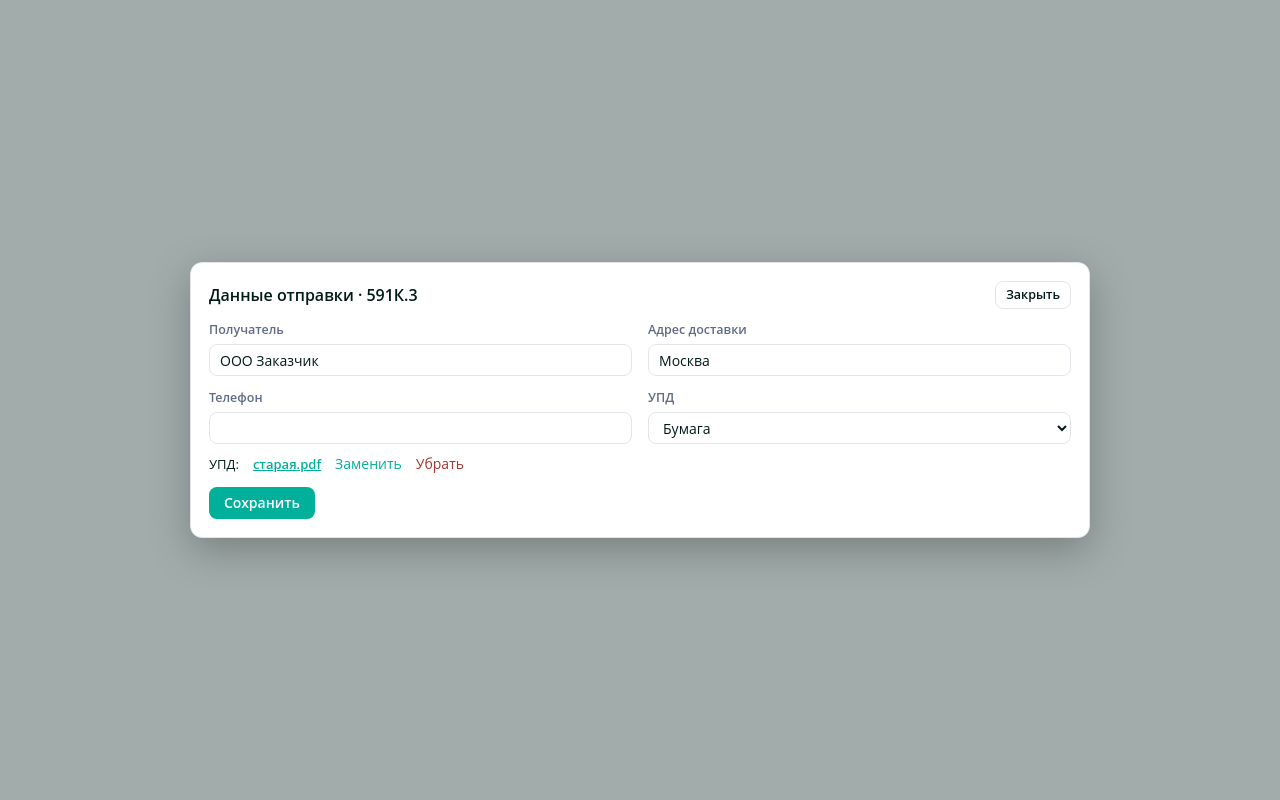
Scenario: Данные отправки › «Убрать» стирает ссылку на файл с текущей версией
This screenshot has width=1280, height=800.
Check: the field labelled "Получатель" holds "ООО Заказчик", box [209,344,632,376]
Check: the link "старая.pdf" is shown, box [253,454,321,472]
Click the button "Убрать".
click(440, 464)  # box [416,454,464,473]
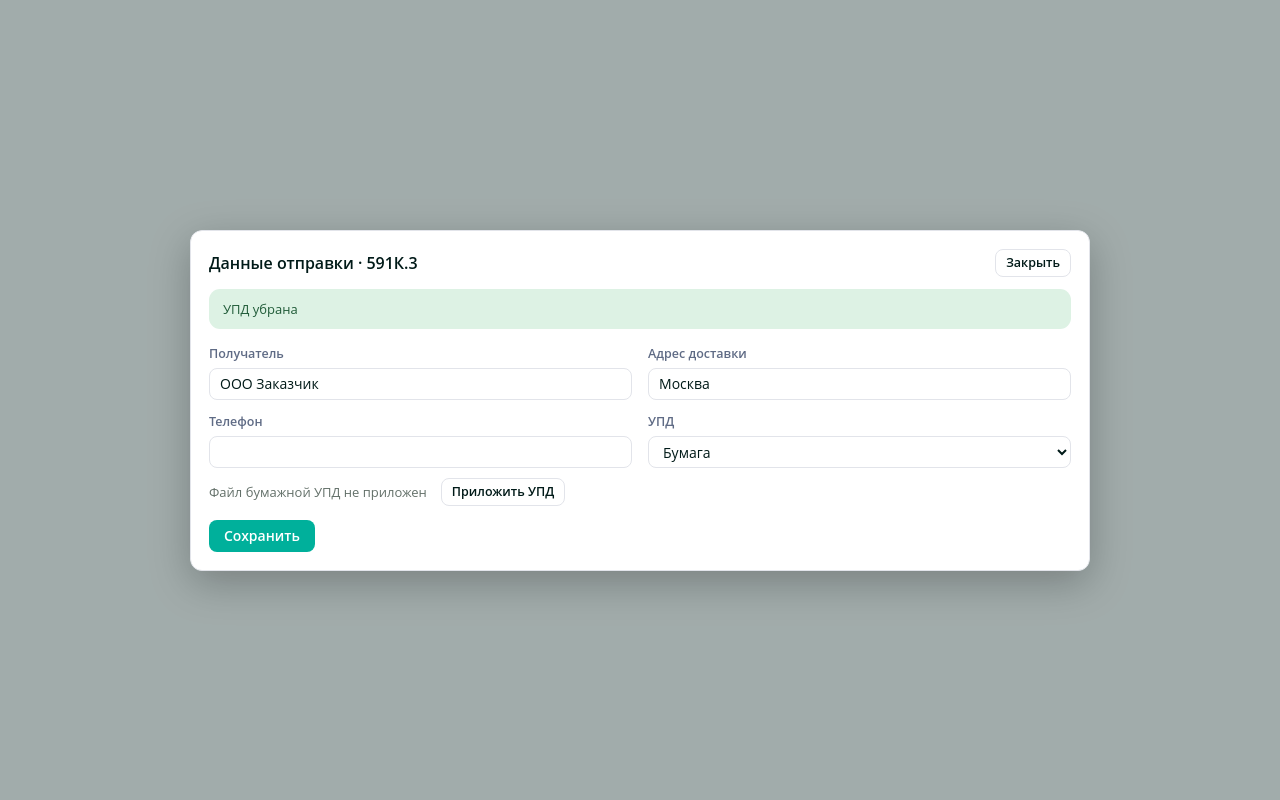
Check: the text "Файл бумажной УПД не приложен" is shown, box [209,482,427,500]
